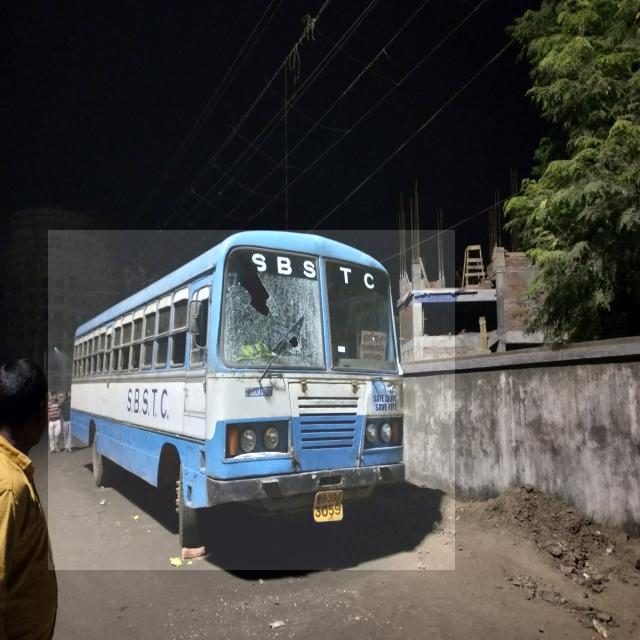Bus: (48, 230, 455, 570)
